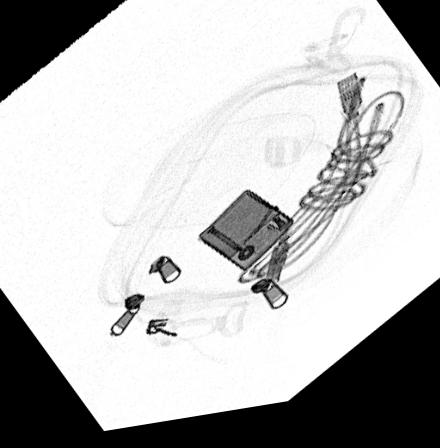Lighter: (195, 196, 292, 280)
